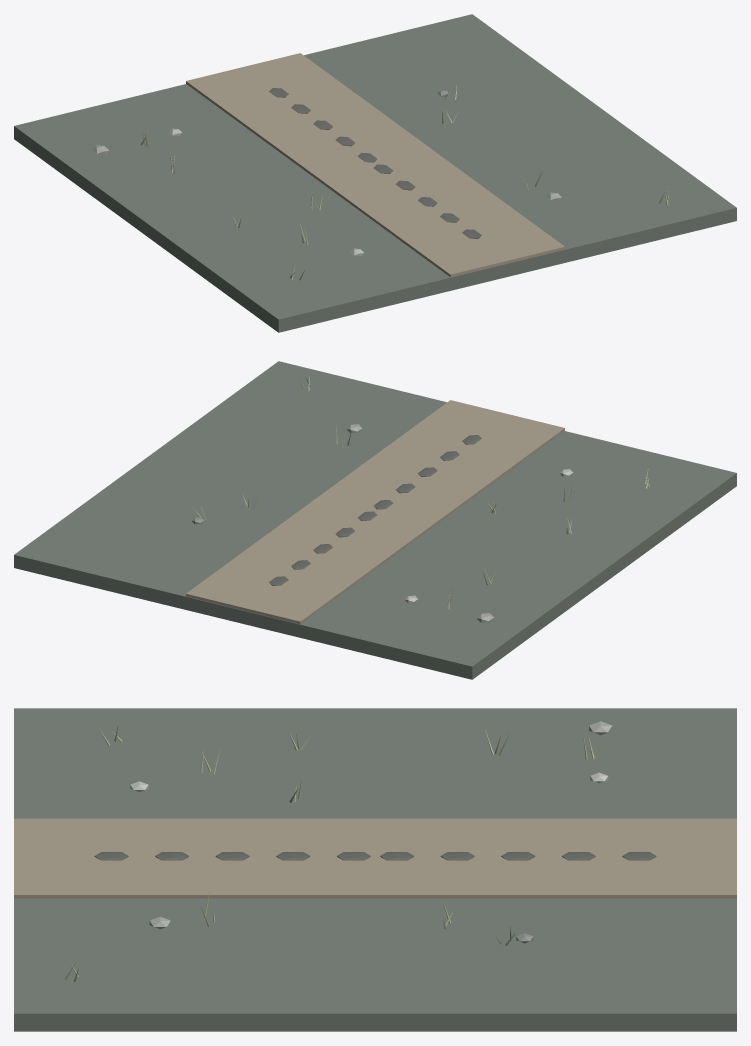
The model's file is path_straight_ns.glb.
3 renders of one model, top to bottom at view 1: azimuth 30°, elevation 25°; view 2: azimuth 150°, elevation 25°; view 3: azimuth 270°, elevation 25°, orthographic. The views are drawn at different scales.
Visible parts, largest first — view 1: road_material_00, road_material_01, road_material_07; view 2: road_material_00, road_material_01, road_material_07; view 3: road_material_00, road_material_01, road_material_07, road_material_02.
Part boxes in pixels (x1,y1,x2,y2): road_material_00: (14, 14, 736, 332); road_material_01: (186, 53, 564, 277); road_material_07: (269, 88, 481, 238); road_material_00: (14, 361, 736, 679); road_material_01: (186, 400, 564, 624); road_material_07: (269, 435, 481, 585); road_material_00: (14, 708, 736, 1031); road_material_01: (14, 818, 736, 898); road_material_07: (94, 852, 656, 860); road_material_02: (70, 725, 594, 977).
Bounding box in the file's own units: 8 × 0.5357 × 8.
